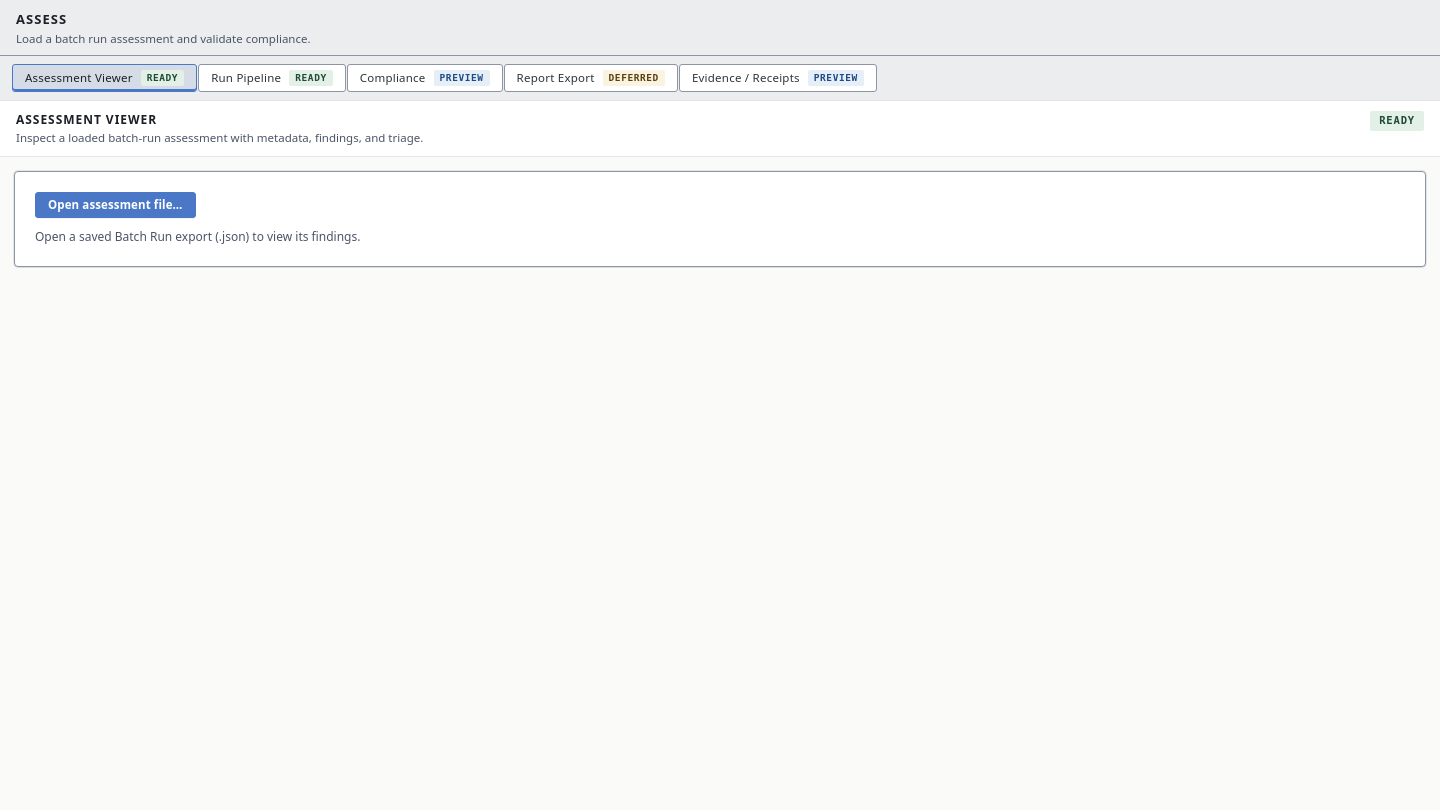
AssessPanel — ModeWorkbenchShell integration › returning to viewer restores assess-root class
This screenshot has width=1440, height=810.
Click the tab with test id "mwb-tool-pipeline": [272, 78] box [198,64,346,92]
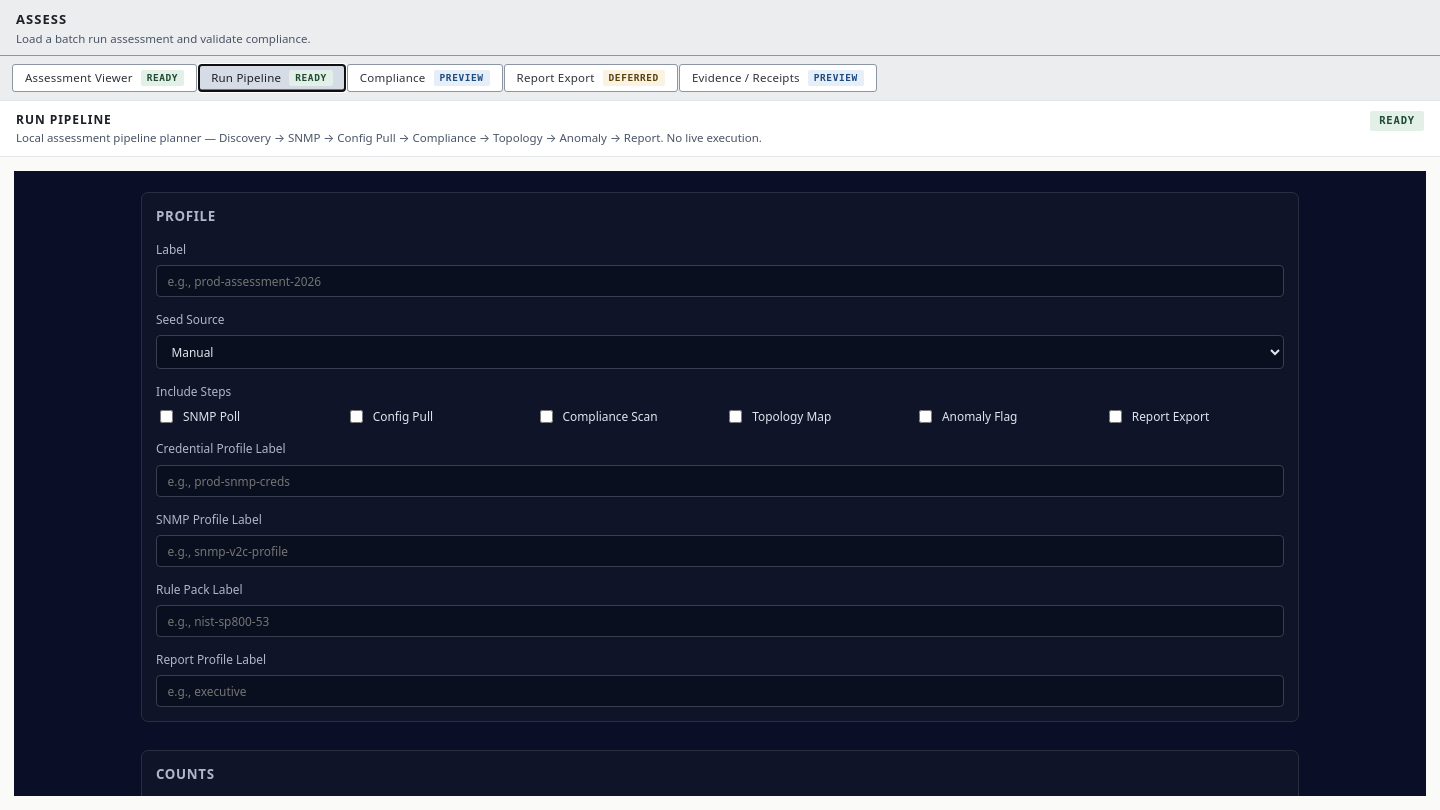
Result: the button "Open assessment file" is gone
Click the tab with test id "mwb-tool-viewer": [105, 78] box [12,64,197,92]
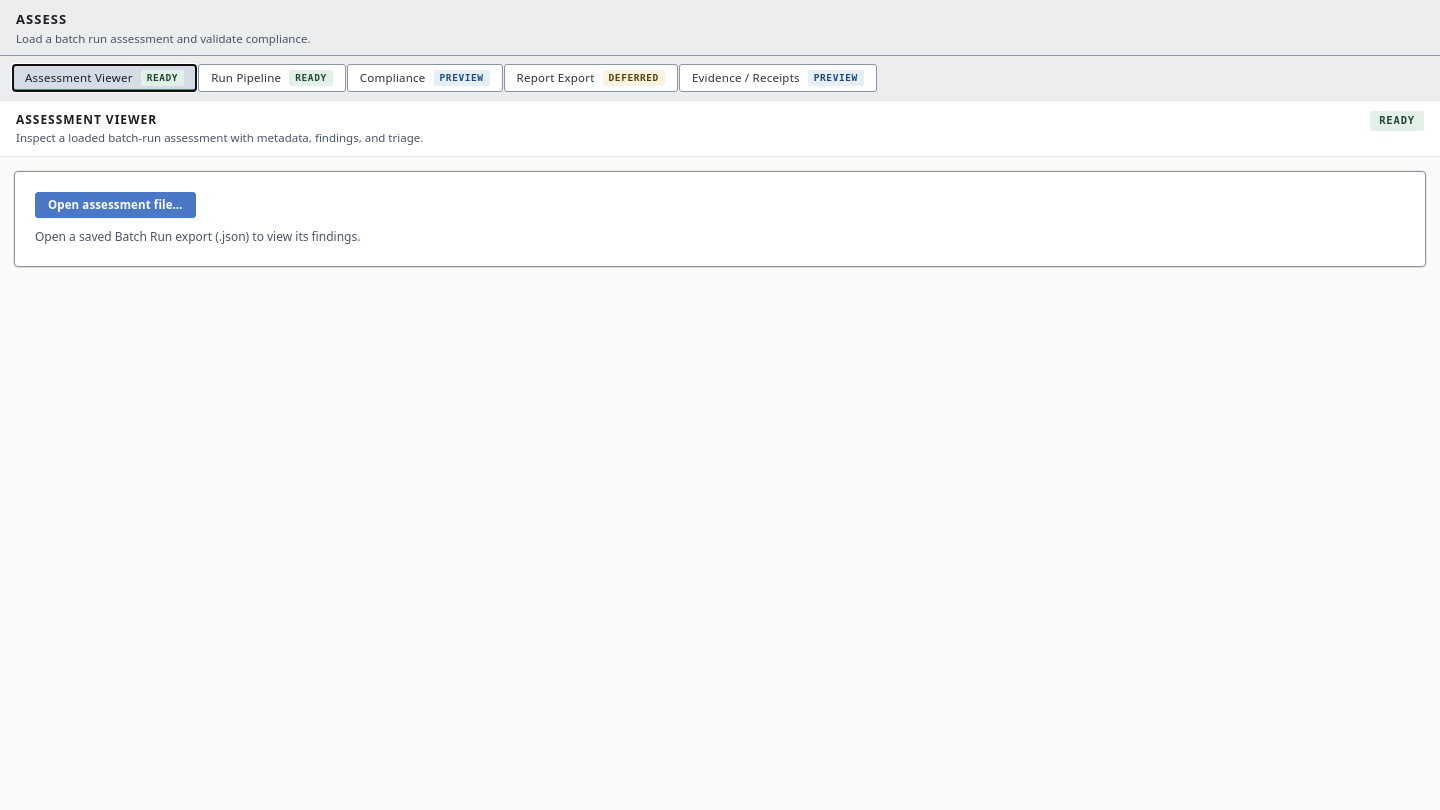
Result: the button "Open assessment file…" is shown at [35,192,196,218]
